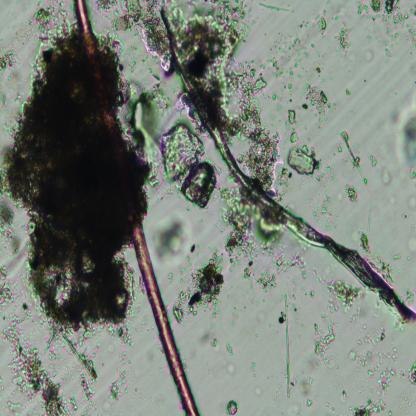Background material: (0, 23, 154, 329), (180, 1, 271, 119), (3, 325, 78, 416), (224, 92, 288, 190), (314, 130, 374, 230), (97, 0, 171, 73), (174, 237, 228, 323), (121, 81, 173, 168), (347, 318, 401, 398), (157, 118, 210, 191), (221, 191, 272, 265), (358, 1, 416, 62), (62, 328, 101, 403), (0, 262, 35, 333), (153, 214, 197, 265), (278, 293, 298, 399), (306, 316, 341, 373), (183, 158, 219, 209), (26, 0, 67, 44), (326, 276, 365, 320), (271, 32, 308, 78), (302, 80, 334, 124), (274, 245, 312, 282), (108, 348, 133, 404), (284, 144, 320, 182), (0, 196, 20, 258), (242, 260, 280, 292), (397, 116, 416, 180), (333, 3, 354, 60), (0, 42, 23, 83), (273, 161, 293, 202), (347, 397, 387, 416), (367, 247, 393, 274), (108, 321, 136, 345), (350, 226, 372, 250), (286, 109, 301, 141), (260, 3, 294, 13), (315, 10, 328, 36), (204, 322, 217, 347), (225, 398, 242, 416), (268, 93, 284, 112), (299, 375, 314, 393), (314, 53, 324, 80), (229, 306, 241, 327), (136, 388, 152, 403), (402, 287, 416, 304), (8, 402, 24, 416), (406, 362, 416, 384), (381, 166, 392, 186), (406, 235, 416, 253), (367, 150, 377, 167), (326, 401, 338, 415), (247, 361, 257, 377), (254, 386, 265, 400), (392, 108, 402, 123), (152, 392, 163, 405), (197, 333, 208, 345), (409, 193, 416, 211), (288, 81, 296, 95), (225, 343, 234, 355), (166, 270, 173, 285), (226, 364, 236, 374), (340, 391, 349, 402), (298, 21, 309, 30), (394, 252, 404, 261), (409, 60, 416, 72), (402, 212, 411, 221), (307, 287, 316, 296), (410, 223, 416, 234), (306, 398, 314, 406), (343, 88, 351, 96), (404, 255, 412, 262), (388, 408, 393, 416), (402, 395, 408, 401), (308, 42, 314, 48), (301, 103, 308, 108), (413, 78, 416, 86), (394, 91, 398, 95), (363, 78, 367, 82), (401, 99, 404, 103)
Cellulose filter fibre: (159, 3, 412, 322)
Microfibre: (71, 0, 201, 416)
